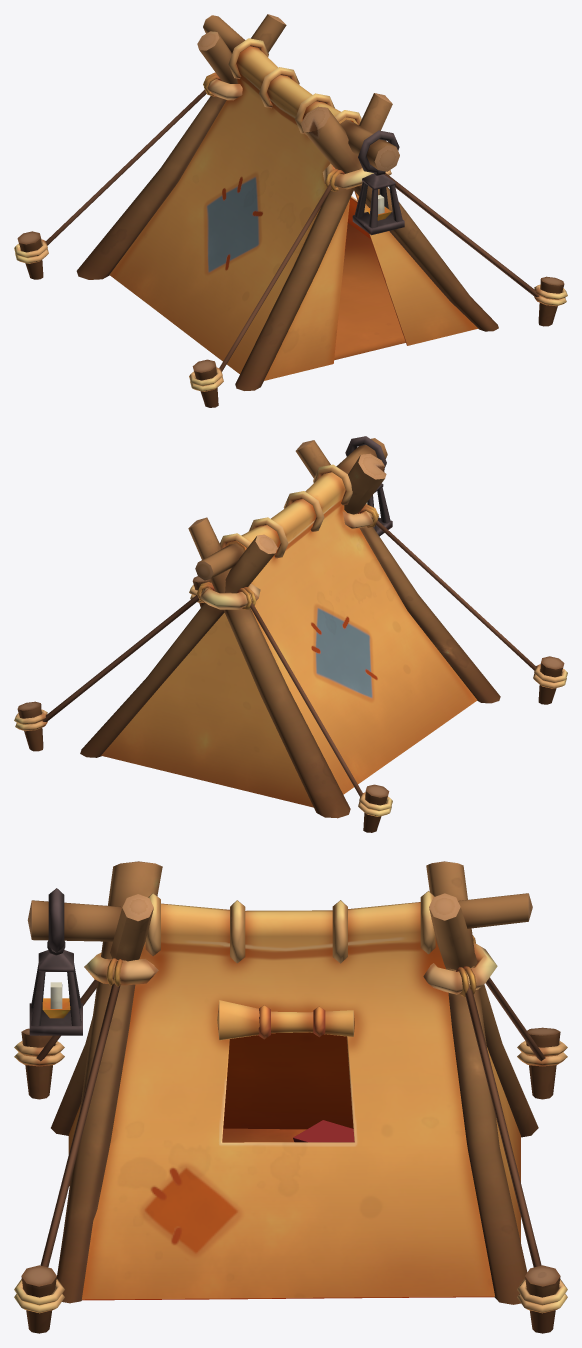
The model's file is SM_Tent_LOD1.fbx.
The picture shows the model from 3 angles, top to bottom: view 1: azimuth 30°, elevation 25°; view 2: azimuth 150°, elevation 25°; view 3: azimuth 270°, elevation 25°; orthographic projection. The views are drawn at different scales.
Parts seen in each view (by area): view 1: SM_Tent_LOD1; view 2: SM_Tent_LOD1; view 3: SM_Tent_LOD1.
Part boxes in pixels (x1,y1,x2,y2): SM_Tent_LOD1: (14, 14, 567, 407); SM_Tent_LOD1: (14, 436, 567, 832); SM_Tent_LOD1: (14, 861, 567, 1333).
Bounding box in the file's own units: 656 × 583 × 397.
1 material, 1 textured.
